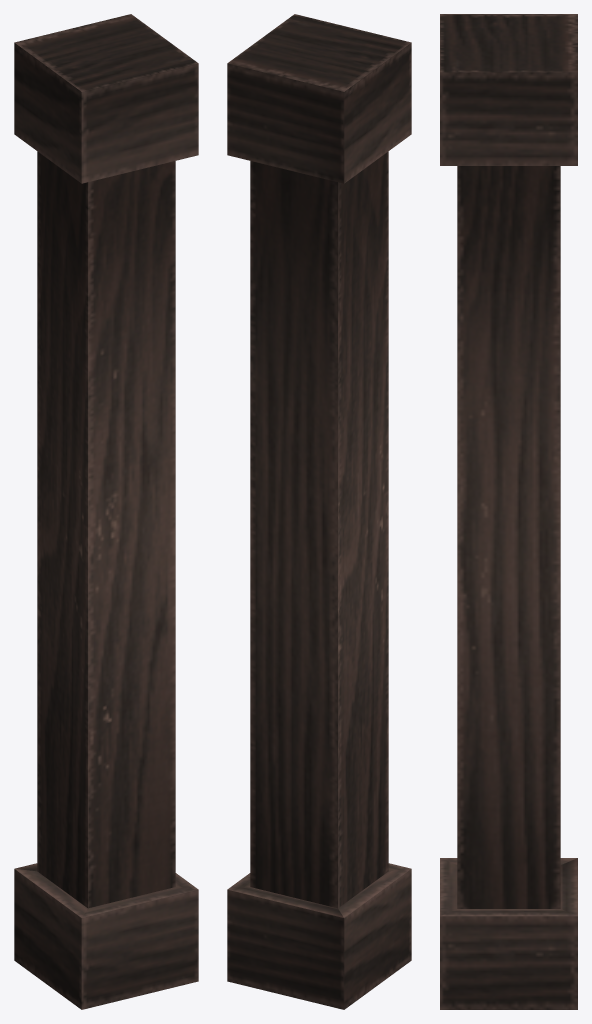
Rendered from Pillar.fbx.
3 views of the same model, side by side, from view 1: azimuth 30°, elevation 25°; view 2: azimuth 150°, elevation 25°; view 3: azimuth 270°, elevation 25° (orthographic). The views are drawn at different scales.
Parts seen in each view (by area): view 1: Pillar; view 2: Pillar; view 3: Pillar.
Boxes of the visible parts, x1,y1,x2,y2 form: Pillar: (14,14,198,1009); Pillar: (227,14,411,1009); Pillar: (440,14,577,1009).
Bounding box in the file's own units: 40 × 300 × 40.
